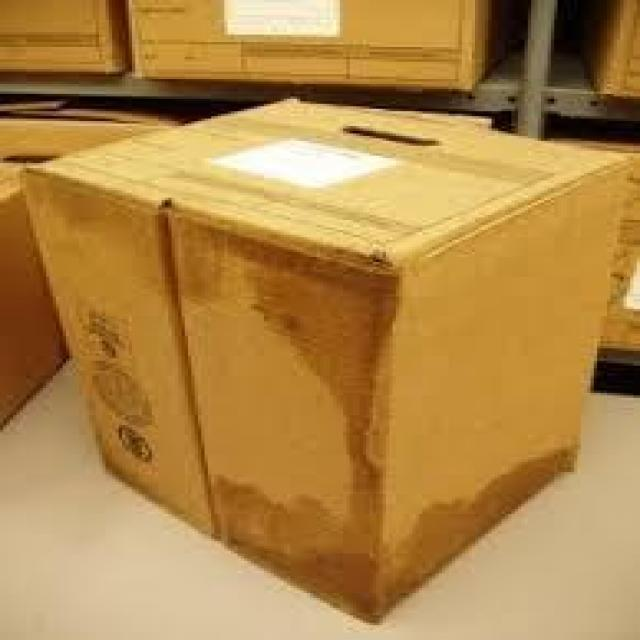wet: (192, 440, 578, 620), (195, 218, 412, 470)
